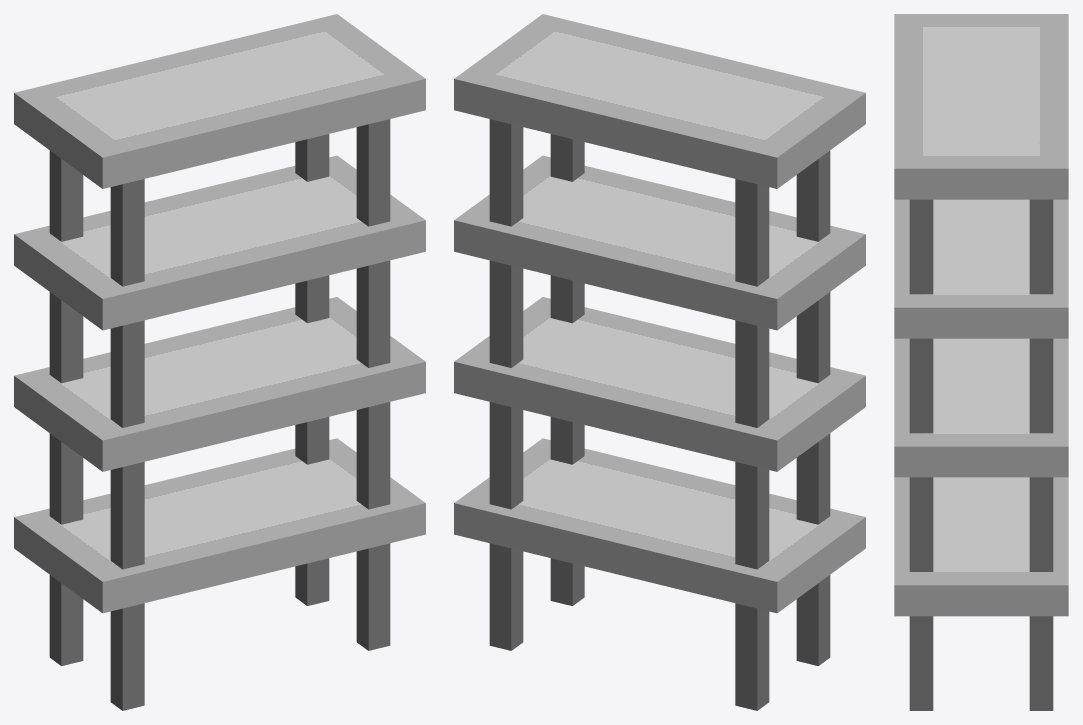
File: Shelf 2.fbx
3 views of the same model, side by side, from view 1: azimuth 30°, elevation 25°; view 2: azimuth 150°, elevation 25°; view 3: azimuth 270°, elevation 25° (orthographic).
Parts seen in each view (by area): view 1: Shelf_2; view 2: Shelf_2; view 3: Shelf_2.
Boxes of the visible parts, x1,y1,x2,y2 form: Shelf_2: [14, 14, 425, 710]; Shelf_2: [454, 14, 865, 710]; Shelf_2: [894, 14, 1068, 710].
Bounding box in the file's own units: 163 × 272 × 77.32.
